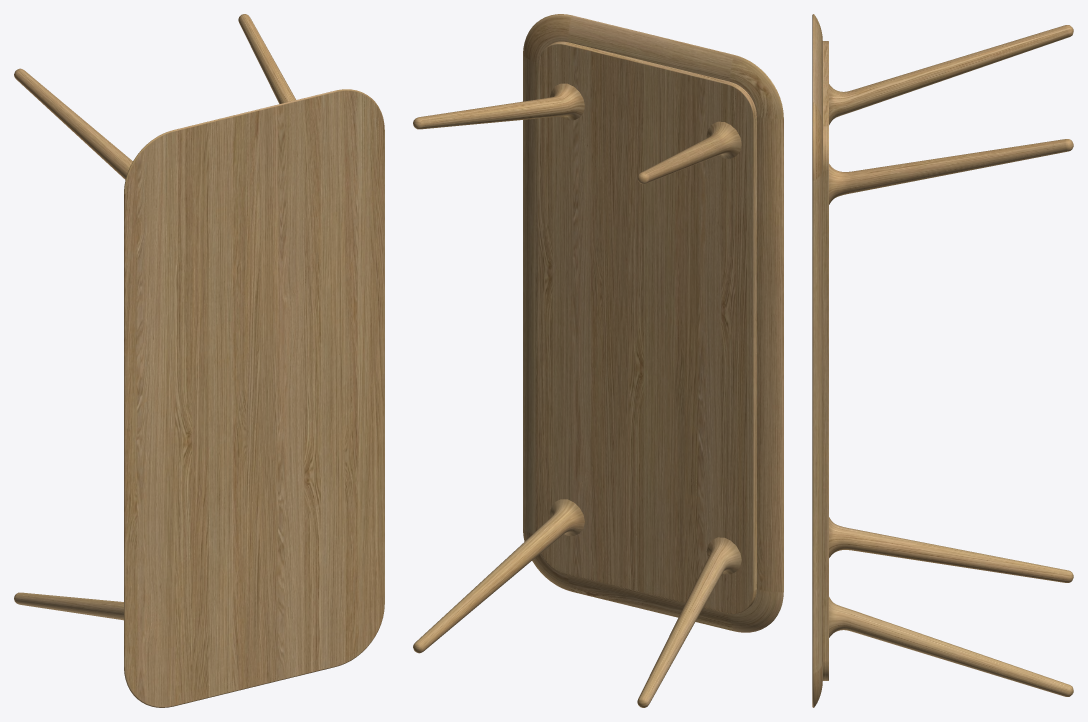
Rendered from table1.fbx.
The picture shows the model from 3 angles, left to right: view 1: azimuth 30°, elevation 25°; view 2: azimuth 150°, elevation 25°; view 3: azimuth 270°, elevation 25°; orthographic projection. The views are drawn at different scales.
Visible parts, largest first — view 1: TABLE; view 2: TABLE; view 3: TABLE.
Part boxes in pixels (x1,y1,x2,y2): TABLE: (14,14,384,707); TABLE: (413,14,783,707); TABLE: (812,14,1073,707).
Bounding box in the file's own units: 90.02 × 190 × 74.96.
Materials: 1 (1 with a texture image).
